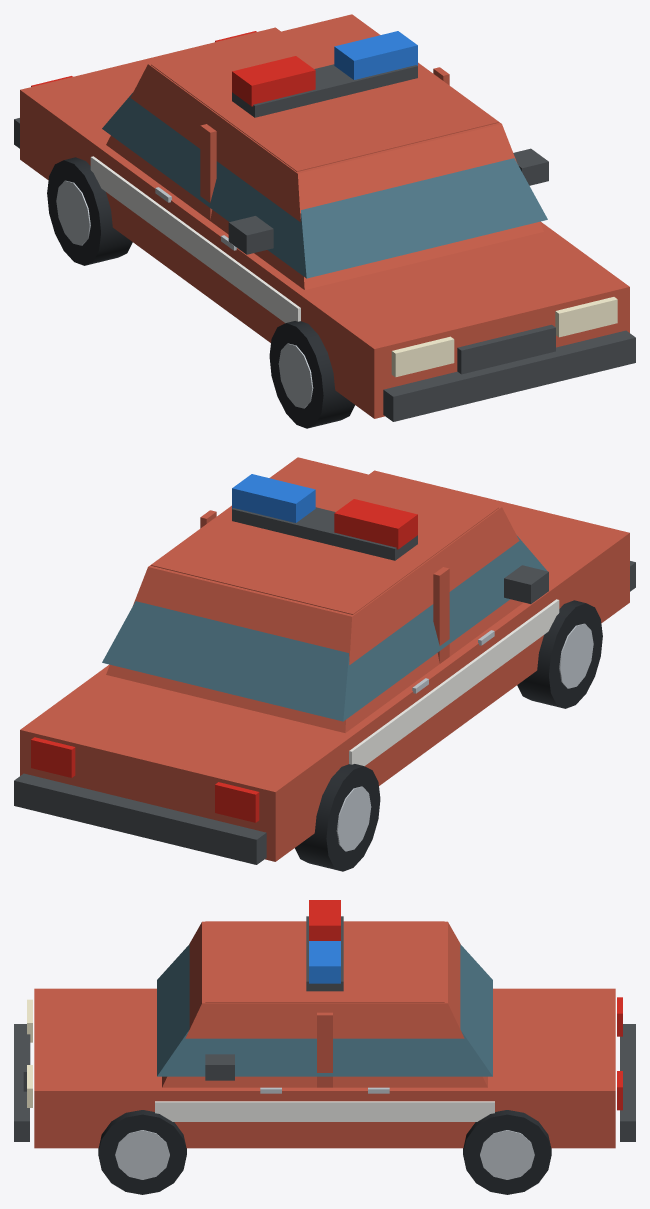
Rendered from police.glb.
The picture shows the model from 3 angles, top to bottom: view 1: azimuth 30°, elevation 25°; view 2: azimuth 150°, elevation 25°; view 3: azimuth 270°, elevation 25°; orthographic projection. The views are drawn at different scales.
Visible parts, largest first — view 1: Body, Windows, Lightbar, FrontBumper, WheelFrontL, WheelRearL, Stripe, Headlights, Grille, Mirrors; view 2: Body, Windows, RearBumper, Lightbar, WheelRearL, WheelFrontL, Stripe, TailLights, Mirrors; view 3: Body, Windows, Stripe, WheelFrontR, WheelRearR, Lightbar, RearBumper, FrontBumper, Mirrors, Headlights, TailLights.
Boxes of the visible parts, x1,y1,x2,y2 form: Body: [20, 14, 629, 418]; Windows: [102, 93, 547, 278]; Lightbar: [232, 31, 417, 117]; FrontBumper: [383, 330, 635, 421]; WheelFrontL: [269, 321, 354, 428]; WheelRearL: [47, 157, 132, 265]; Stripe: [90, 156, 300, 323]; Headlights: [391, 297, 617, 377]; Grille: [457, 324, 555, 374]; Mirrors: [228, 148, 548, 254]; Body: [20, 457, 629, 861]; Windows: [102, 536, 547, 721]; RearBumper: [14, 773, 266, 864]; Lightbar: [232, 474, 417, 560]; WheelRearL: [295, 764, 380, 871]; WheelFrontL: [517, 600, 602, 708]; Stripe: [349, 599, 559, 766]; TailLights: [31, 737, 259, 822]; Mirrors: [504, 565, 548, 603]; Body: [34, 921, 615, 1148]; Windows: [157, 944, 492, 1076]; Stripe: [155, 1101, 494, 1121]; WheelFrontR: [98, 1110, 186, 1194]; WheelRearR: [463, 1110, 551, 1194]; Lightbar: [306, 900, 343, 991]; RearBumper: [620, 1024, 635, 1141]; FrontBumper: [14, 1024, 29, 1141]; Mirrors: [205, 1054, 234, 1080]; Headlights: [27, 999, 32, 1107]; TailLights: [617, 997, 622, 1110].
Bounding box in the file's own units: 2.13 × 1.69 × 4.63.
